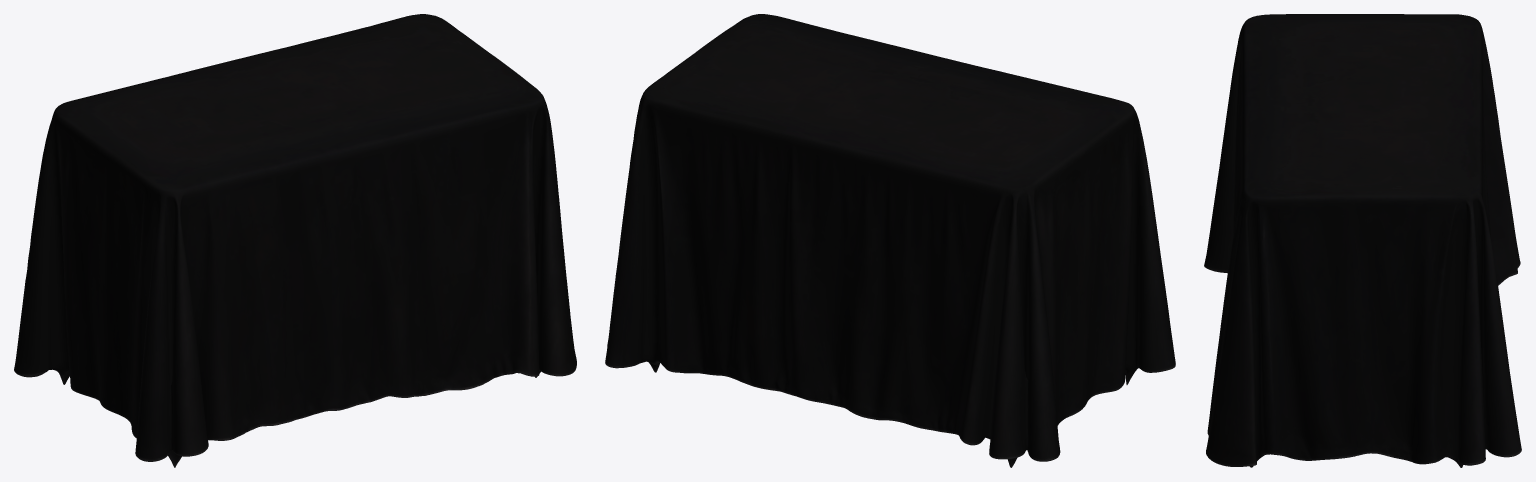
3 views of the same model, side by side, from view 1: azimuth 30°, elevation 25°; view 2: azimuth 150°, elevation 25°; view 3: azimuth 270°, elevation 25° (orthographic).
Parts seen in each view (by area): view 1: model; view 2: model; view 3: model.
Part boxes in pixels (x1=…): model: x1=14, y1=14, x2=576, y2=467; model: x1=605, y1=14, x2=1175, y2=467; model: x1=1204, y1=14, x2=1521, y2=467.
Bounding box in the file's own units: 1.22 × 0.74 × 0.76.
Materials: 1 (1 with a texture image).
